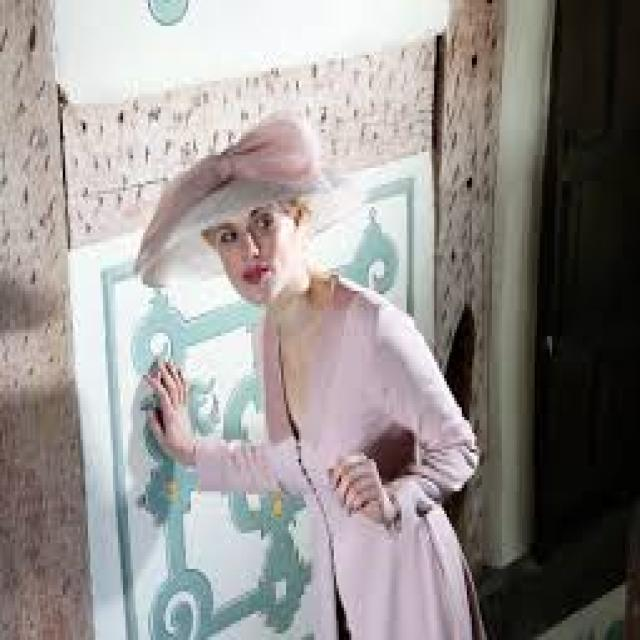hat: (138, 142, 361, 310)
